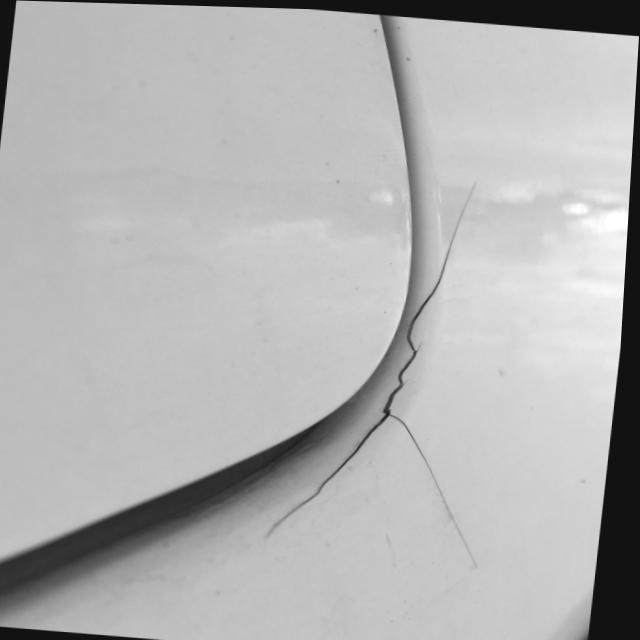Paint-Crack: (252, 173, 489, 572)
